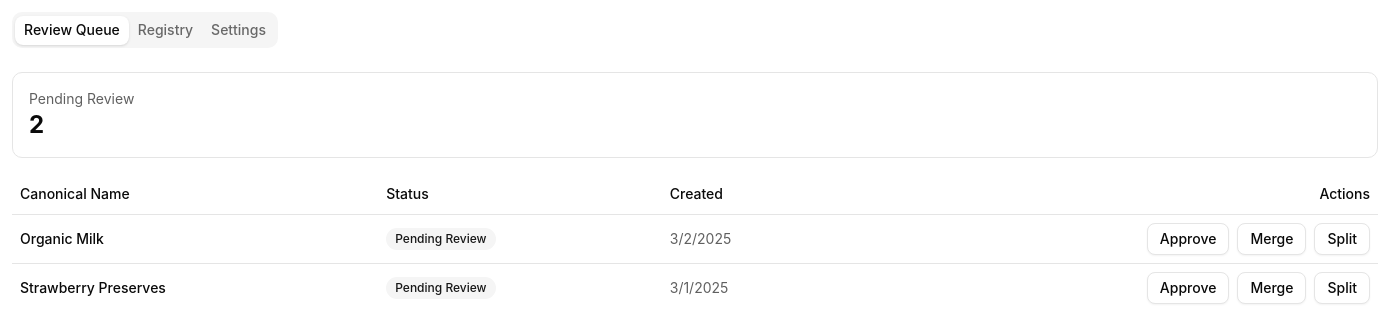
Test case: NormalizedDescriptions registry tab › shows active entries when registry tab is selected
Click the tab "Registry".
click(165, 30)  # box top-left (129, 16), bottom-right (202, 44)
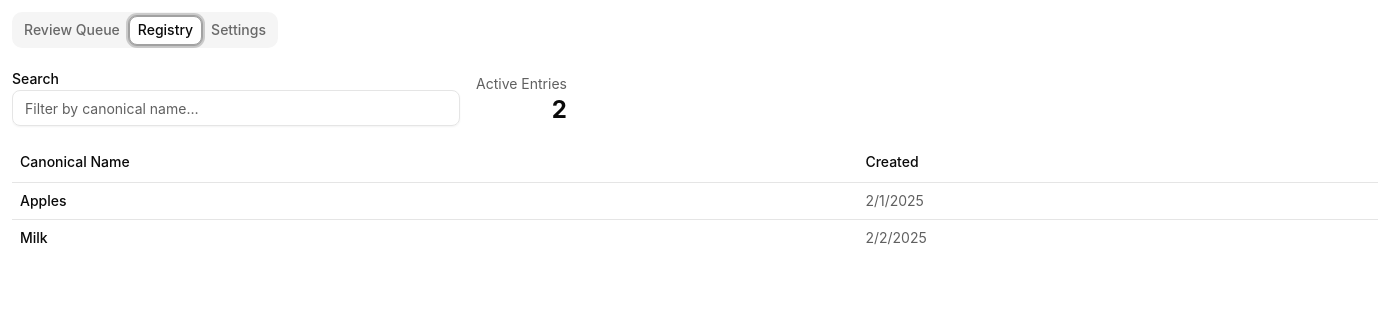
Check: the text "Milk" is shown, box top-left (12, 219), bottom-right (857, 256)
Check: the text "Apples" is shown, box top-left (12, 182), bottom-right (857, 219)
